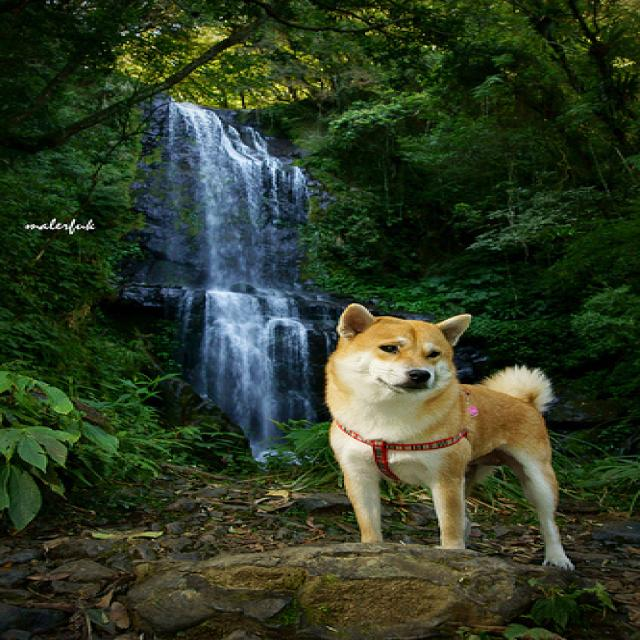dog-shiba_inu: (308, 297, 580, 577)
